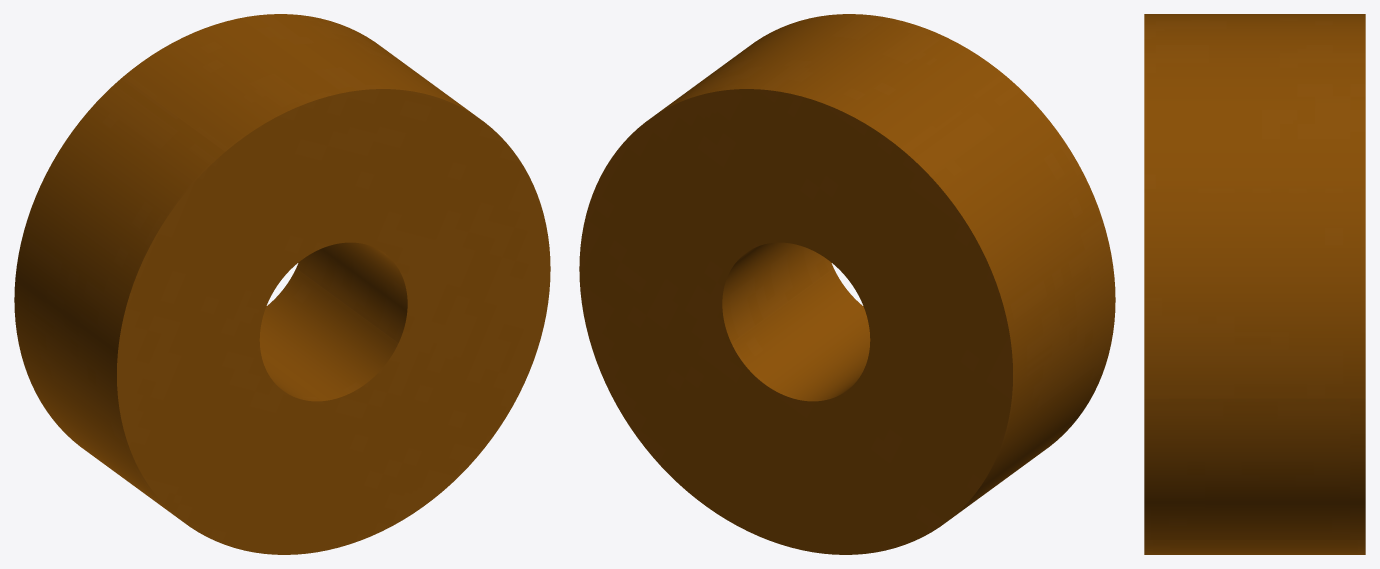
The model's file is base__barrel_collar.glb.
3 views of the same model, side by side, from view 1: azimuth 30°, elevation 25°; view 2: azimuth 150°, elevation 25°; view 3: azimuth 270°, elevation 25° (orthographic). The views are drawn at different scales.
Visible parts, largest first — view 1: geometry_0; view 2: geometry_0; view 3: geometry_0.
Boxes of the visible parts, x1,y1,x2,y2 form: geometry_0: (14,14,550,554); geometry_0: (579,14,1115,554); geometry_0: (1144,14,1365,554).
Size of the model in its own units: 0.044 by 0.044 by 0.018.
Materials: 1 (1 with a texture image).
